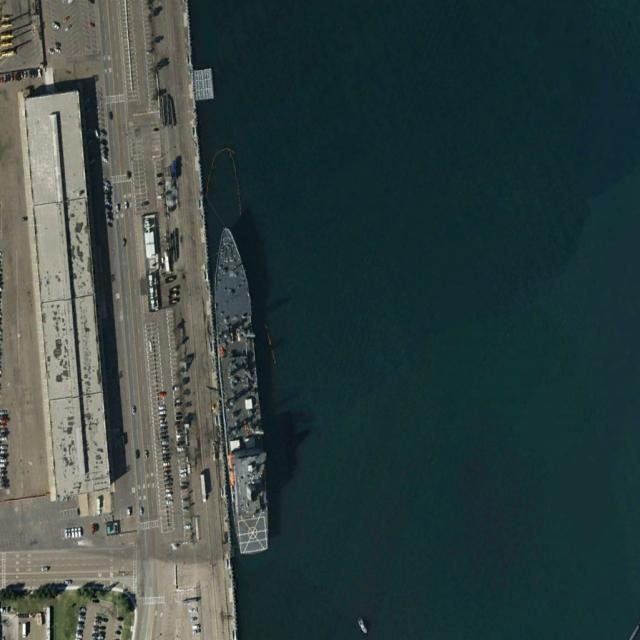Commander: (205, 222, 275, 556)
